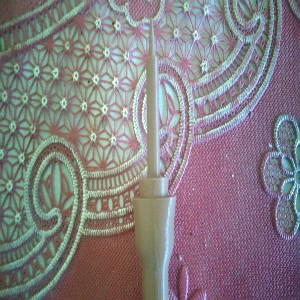solder: (131, 14, 176, 300)
